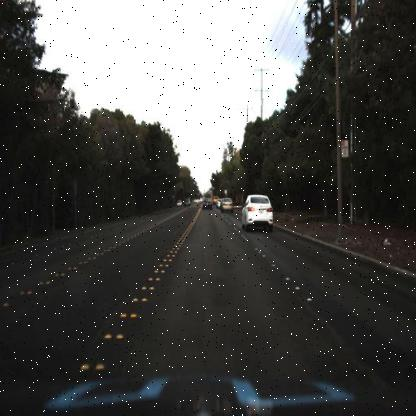car: (240, 193, 278, 235), (222, 196, 236, 218), (201, 197, 213, 212)
